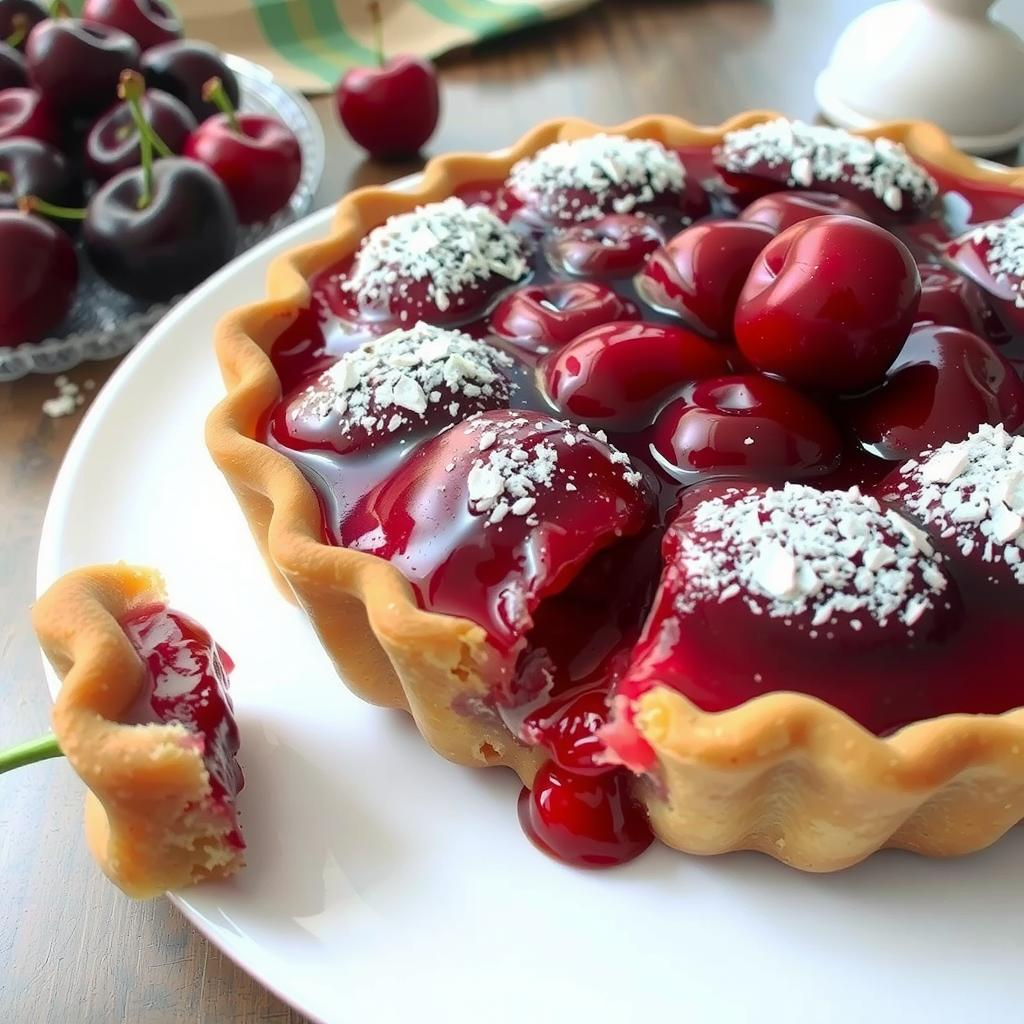pie: (201, 109, 1024, 883)
